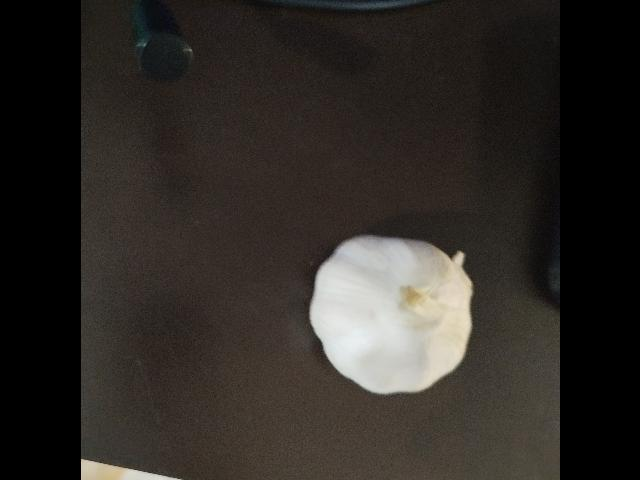garlic: (308, 234, 474, 394)
